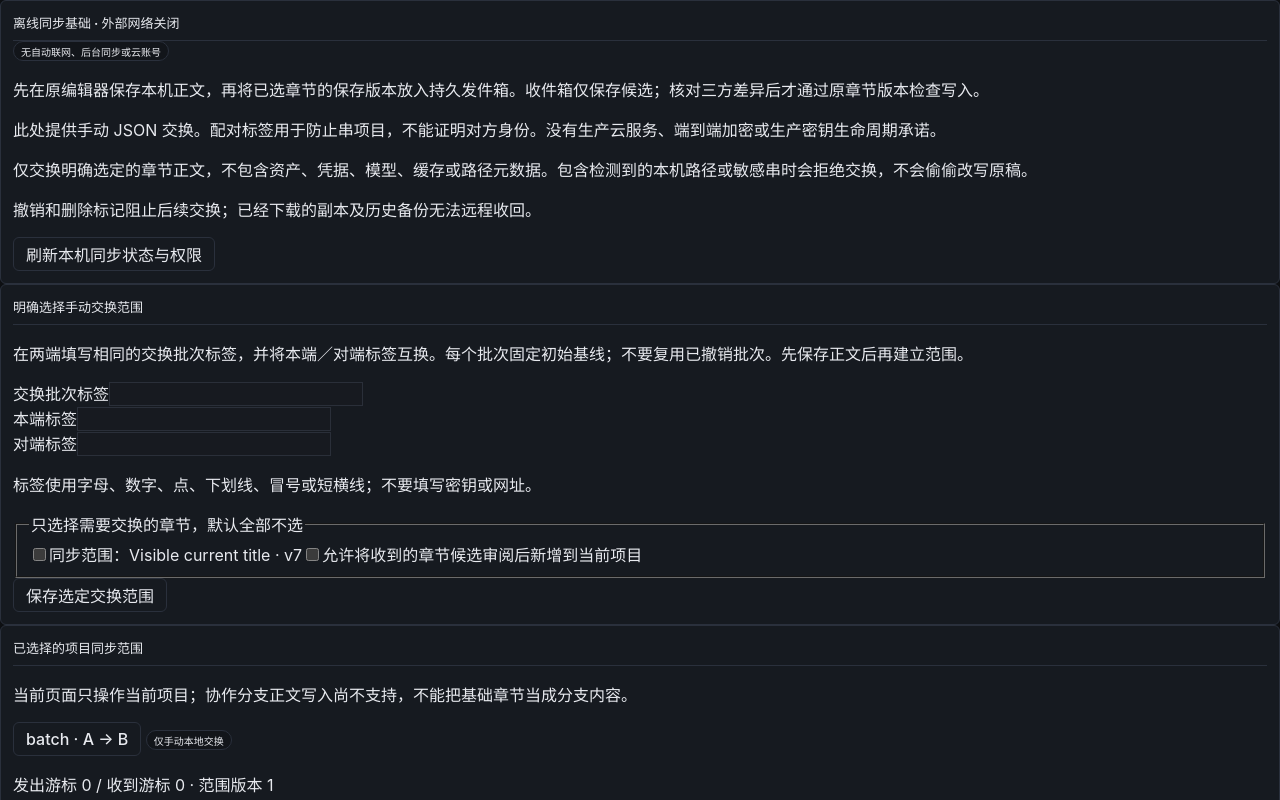
Scenario: mounted unknown create remains uncertain while server can_adopt stays authoritative
The width and height of the screenshot is (1280, 800).
Click the button "batch · A → B".
click(77, 739)  # box [13,722,141,756]
(page scrolled)
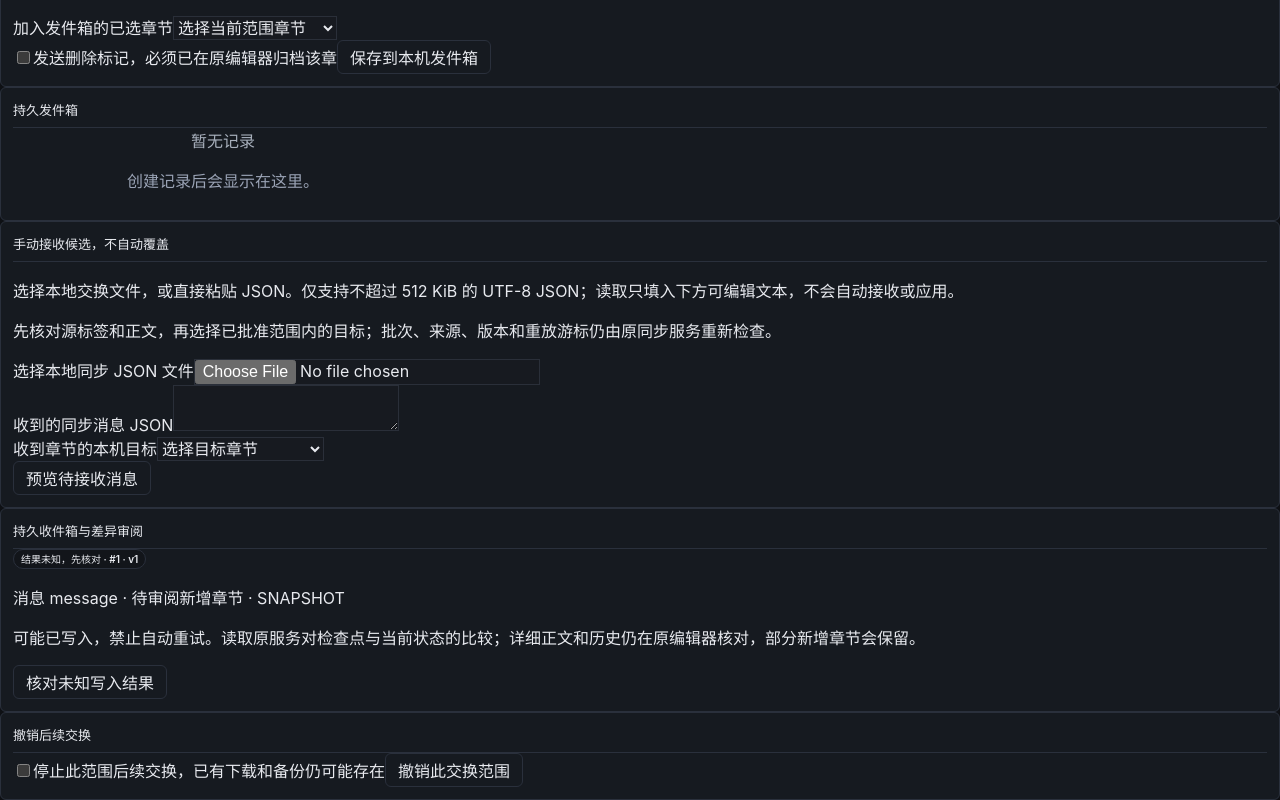
Click the button "核对未知写入结果".
click(90, 682)  # box [13,665,167,699]
(page scrolled)
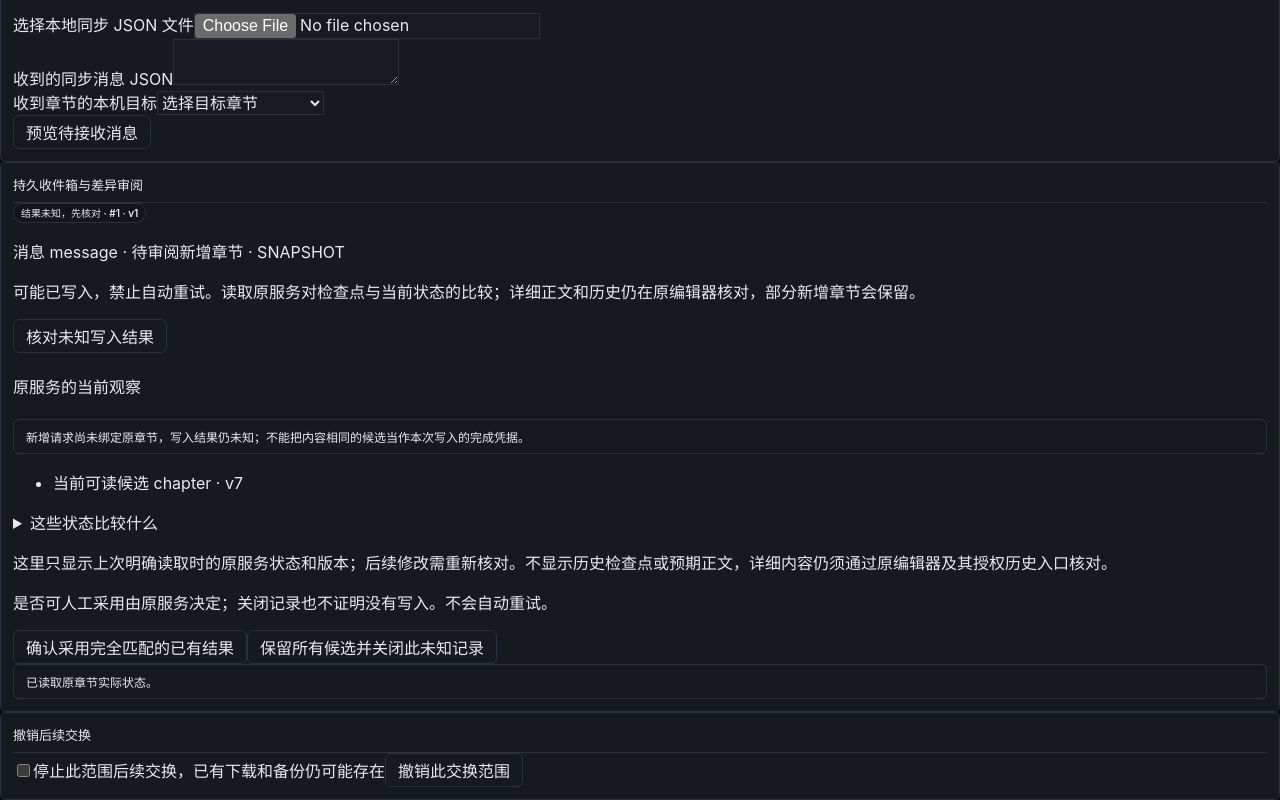
Result: the text "新增请求尚未绑定原章节，写入结果仍未知；不能把内容相同的候选当作本次写入的完成凭据。" is shown at [13,419,1267,454]
Result: the button "确认采用完全匹配的已有结果" is enabled at [13,630,247,664]
